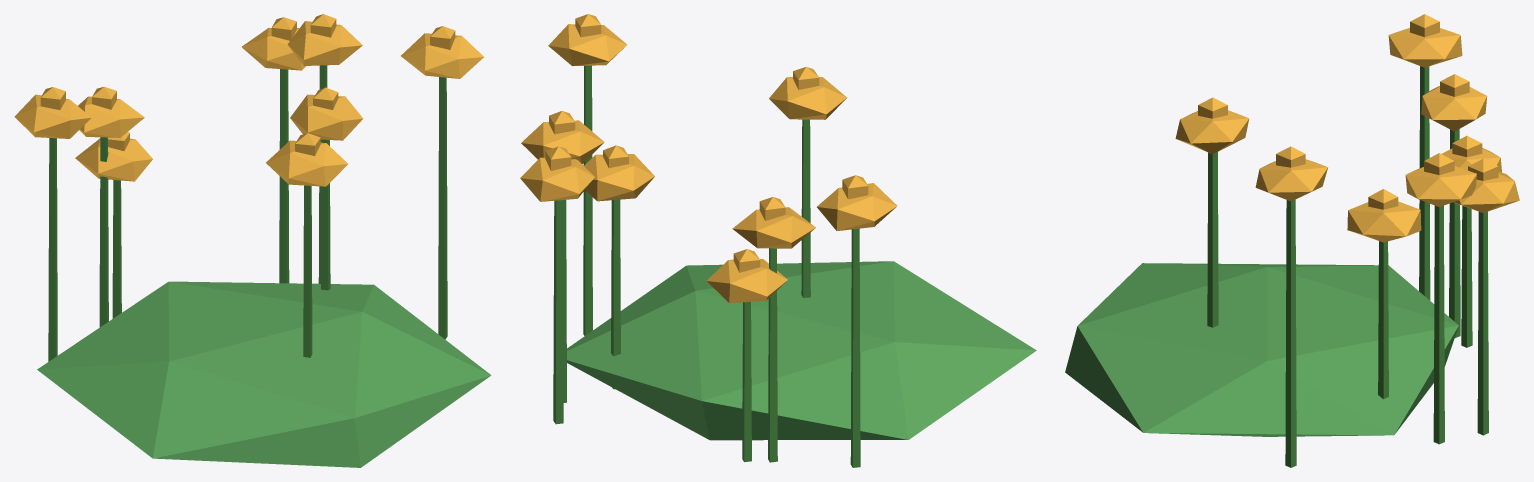
Rendered from flowers-yellow.glb.
3 views of the same model, side by side, from view 1: azimuth 30°, elevation 25°; view 2: azimuth 150°, elevation 25°; view 3: azimuth 270°, elevation 25° (orthographic). The views are drawn at different scales.
Parts seen in each view (by area): view 1: flowers; view 2: flowers; view 3: flowers.
Part boxes in pixels (left/top/right/bottom): flowers: left=14, top=14, right=491, bottom=467; flowers: left=520, top=14, right=1036, bottom=467; flowers: left=1065, top=14, right=1519, bottom=467.
Size of the model in its own units: 0.8066 by 0.6436 by 0.7881.
